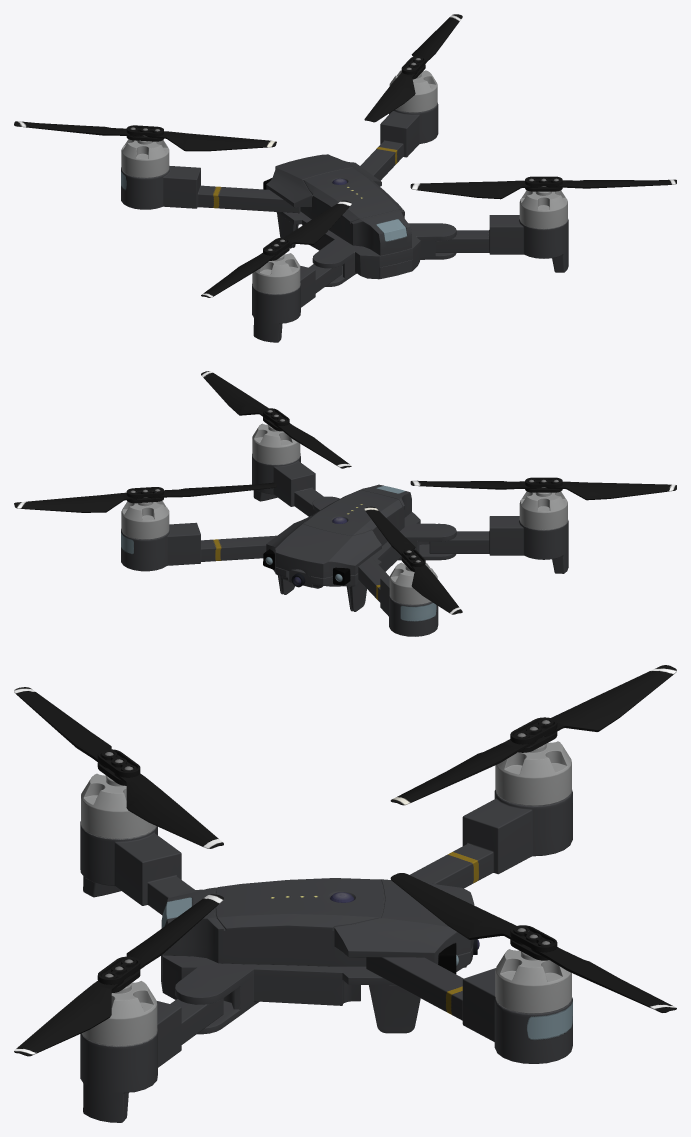
File: quadcopter.glb
3 views of the same model, one above another, from view 1: azimuth 30°, elevation 25°; view 2: azimuth 150°, elevation 25°; view 3: azimuth 270°, elevation 25° (orthographic). The views are drawn at different scales.
Visible parts, largest first — view 1: Object_3, Object_2, Object_5, Object_4; view 2: Object_3, Object_2, Object_5, Object_4; view 3: Object_3, Object_2, Object_5, Object_4.
Boxes of the visible parts, x1,y1,x2,y2 form: Object_3: (121, 64, 568, 342); Object_2: (14, 14, 676, 297); Object_5: (276, 211, 456, 286); Object_4: (126, 56, 562, 260); Object_3: (121, 453, 568, 636); Object_2: (14, 371, 676, 614); Object_5: (263, 496, 456, 611); Object_4: (126, 408, 562, 571); Object_3: (80, 717, 572, 1122); Object_2: (14, 665, 676, 1056); Object_5: (161, 889, 473, 1034); Object_4: (97, 732, 557, 992).
Size of the model in its own units: 21.83 by 4.81 by 16.61.
1 material, 1 textured.
